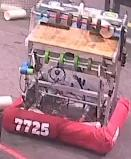blue_number: (12, 116, 53, 139)
